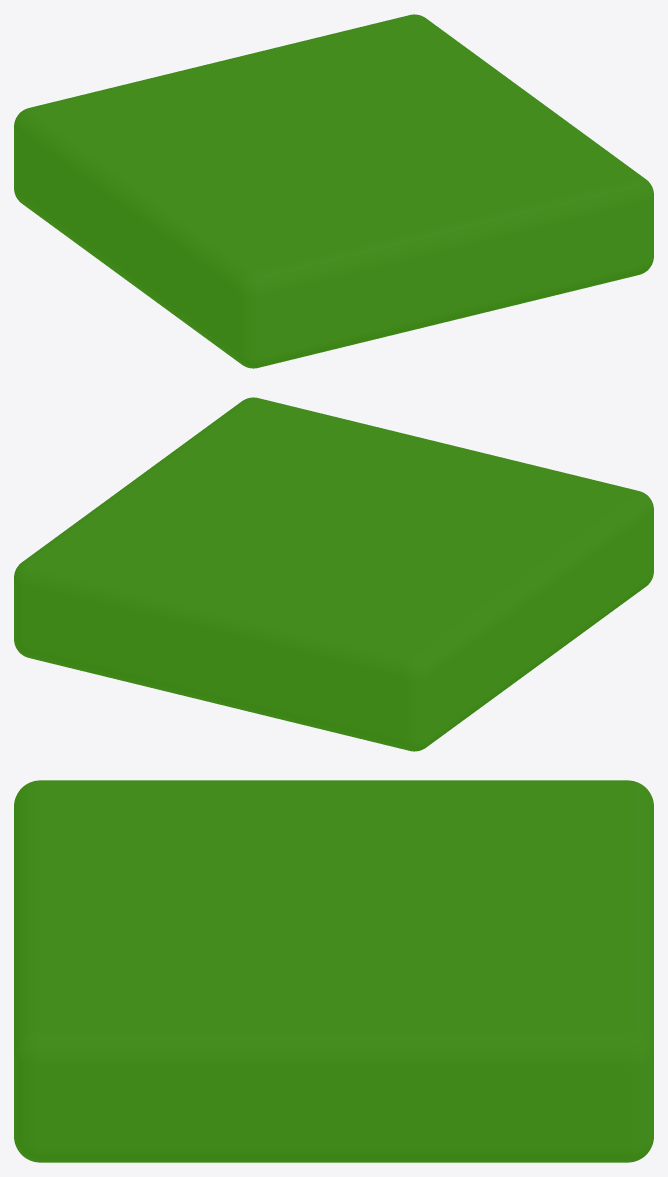
The model's file is CouchCushionHolo.glb.
The picture shows the model from 3 angles, top to bottom: view 1: azimuth 30°, elevation 25°; view 2: azimuth 150°, elevation 25°; view 3: azimuth 270°, elevation 25°; orthographic projection. The views are drawn at different scales.
Parts seen in each view (by area): view 1: CouchCushionHolo; view 2: CouchCushionHolo; view 3: CouchCushionHolo.
Part boxes in pixels (bbox=[...]): CouchCushionHolo: bbox=[14, 14, 653, 368]; CouchCushionHolo: bbox=[14, 397, 653, 751]; CouchCushionHolo: bbox=[14, 780, 653, 1162].
Size of the model in its own units: 9 by 2 by 9.
